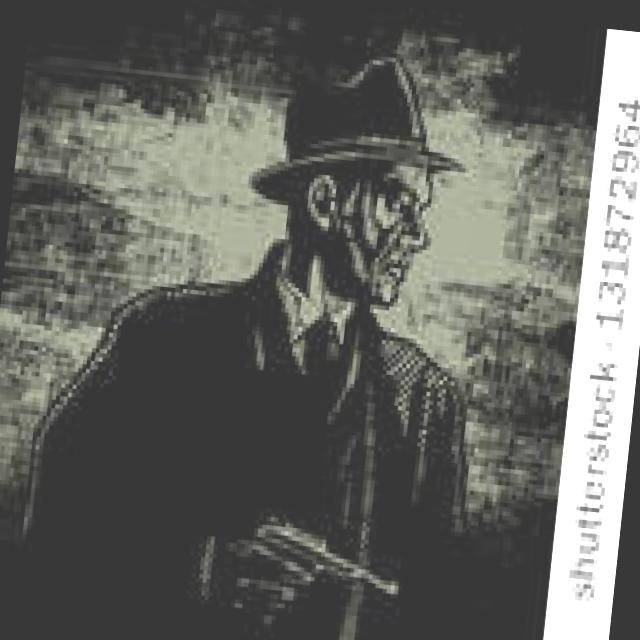handgun: (215, 491, 406, 628)
